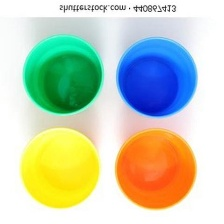glass: (14, 27, 109, 119), (107, 125, 199, 219), (109, 28, 203, 118), (13, 122, 104, 213)
